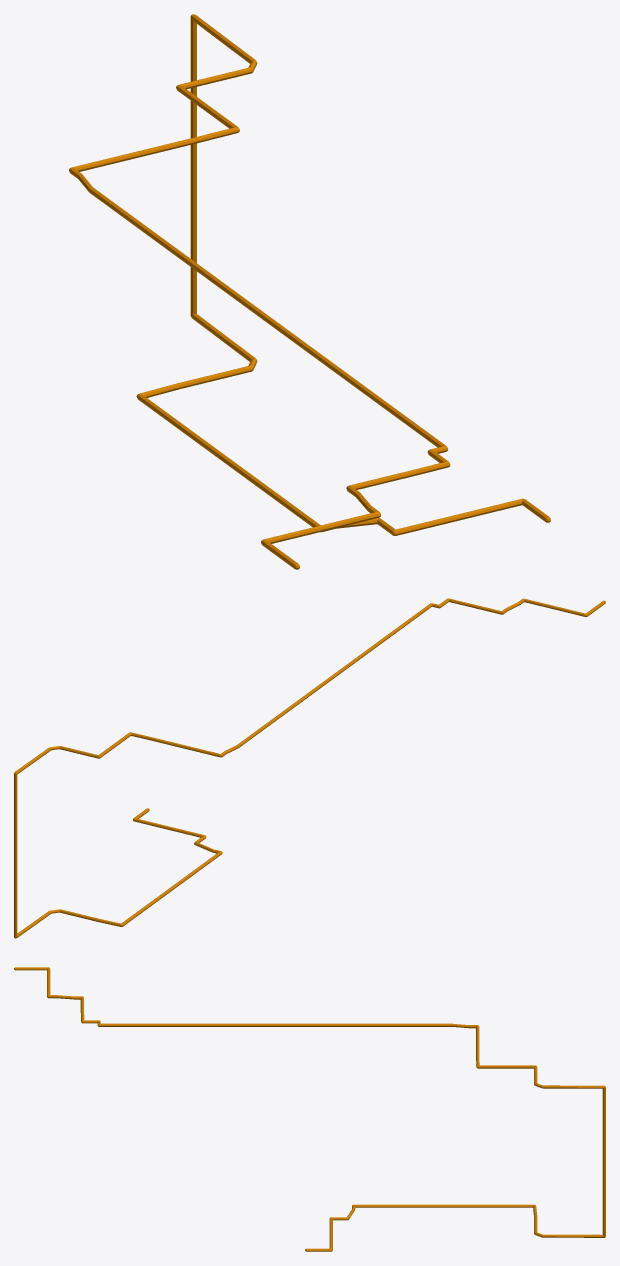
The picture shows the model from 3 angles, top to bottom: view 1: azimuth 30°, elevation 25°; view 2: azimuth 150°, elevation 25°; view 3: azimuth 270°, elevation 25°; orthographic projection. The views are drawn at different scales.
Bounding box in the file's own units: 1921 × 1020 × 3598.
